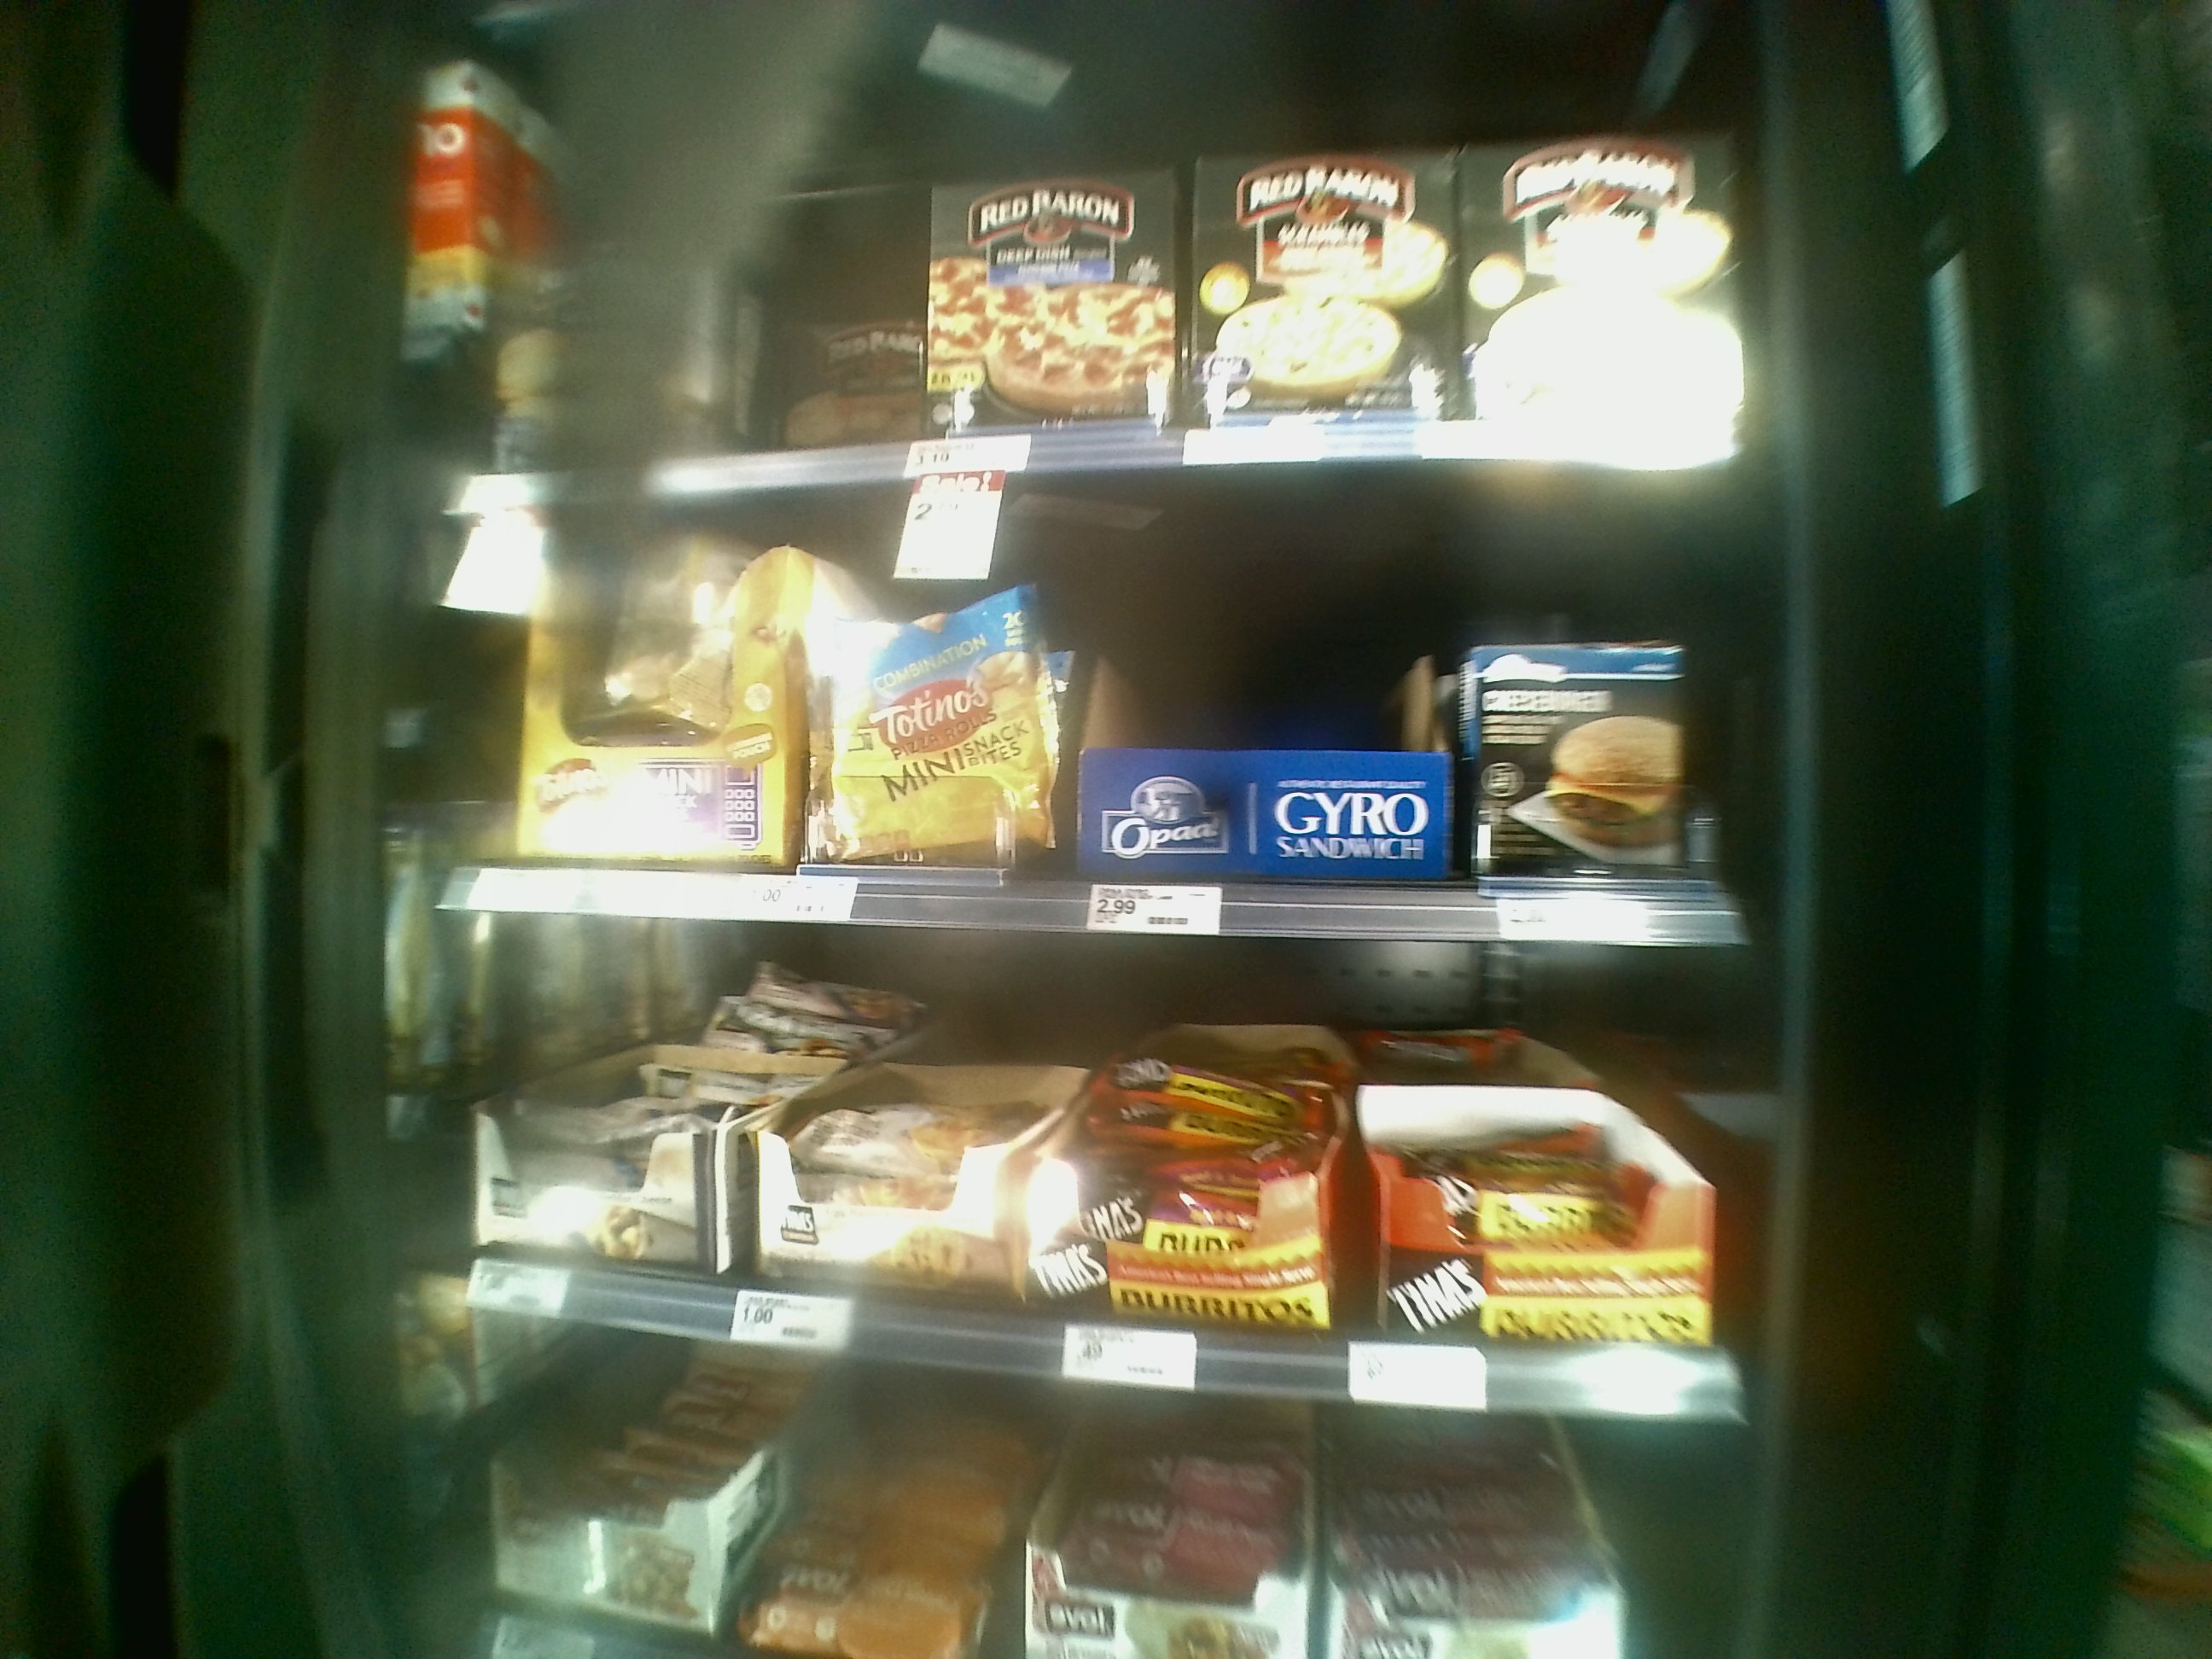shelf: (493, 915, 1763, 1427), (514, 24, 1745, 488), (523, 500, 1747, 941)
